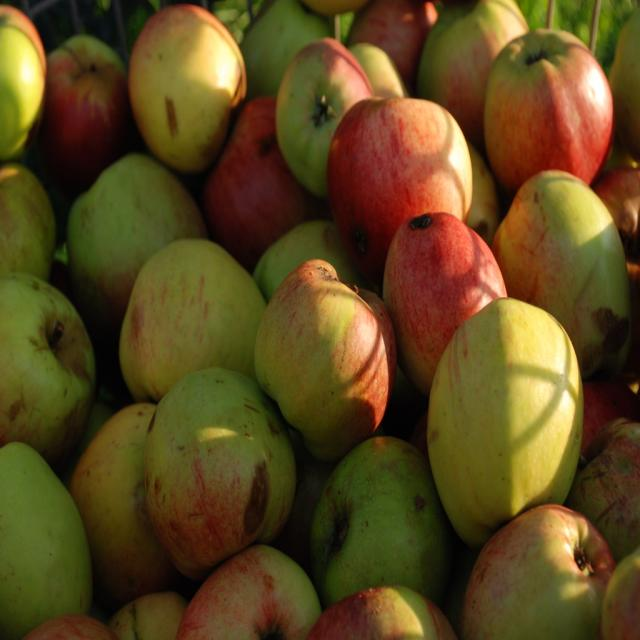Healty Apple: (0, 0, 639, 639), (481, 29, 621, 187)
